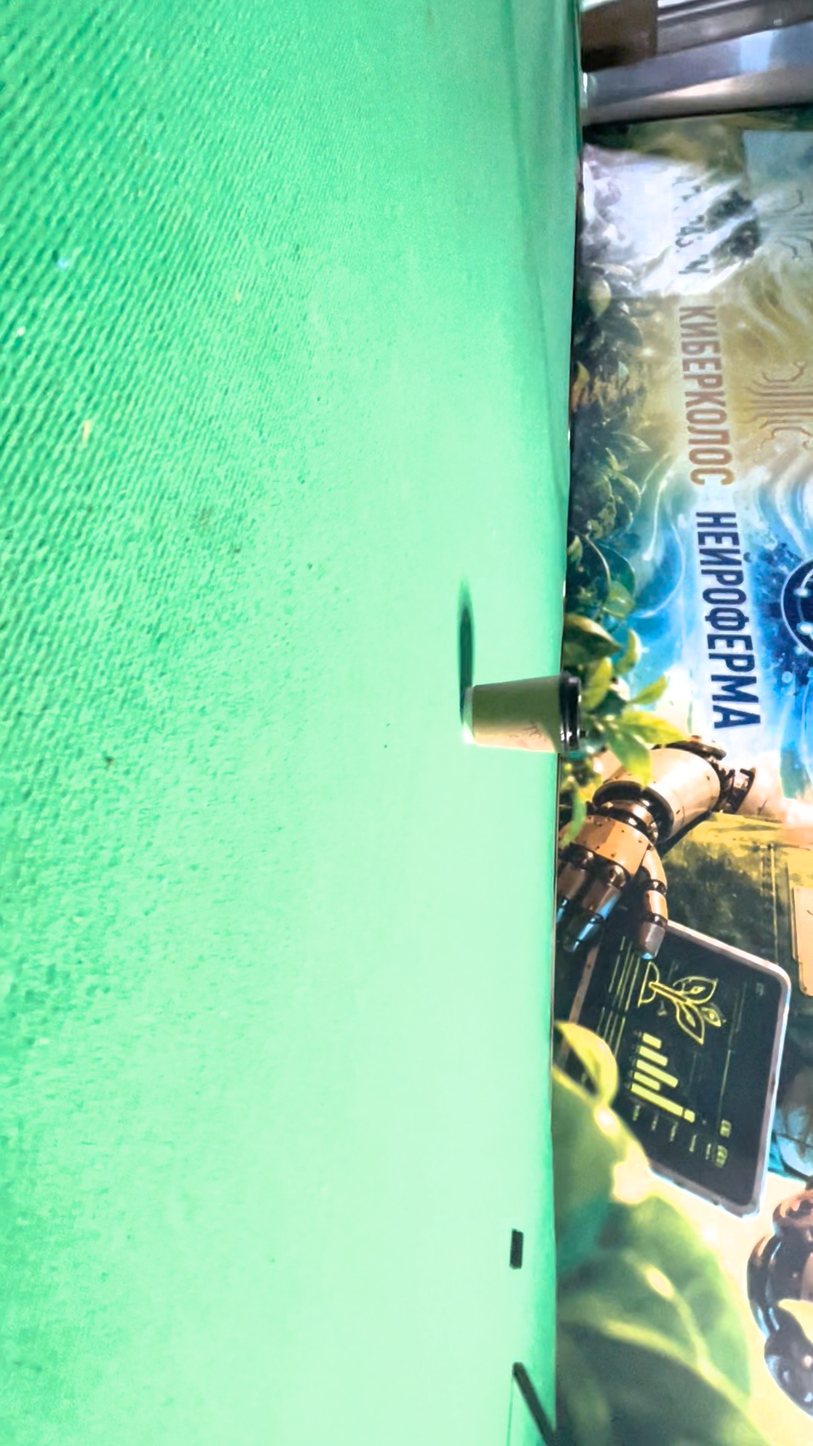cup: (443, 532, 528, 947)
